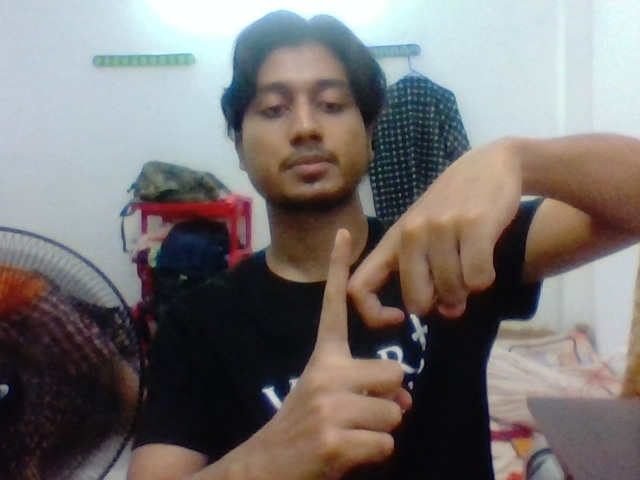K: (284, 207, 427, 477)
